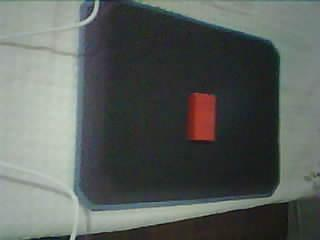lego: (186, 92, 217, 140)
